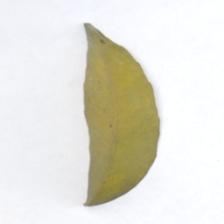greening: (78, 58, 163, 158)
